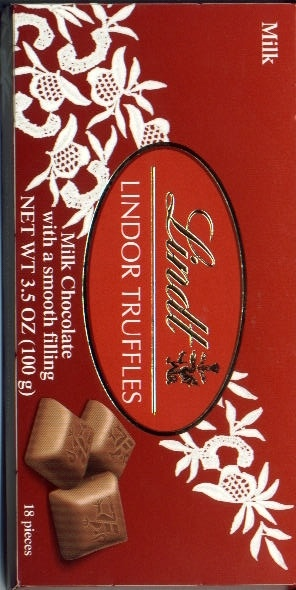grozi_64: (0, 0, 296, 590)
